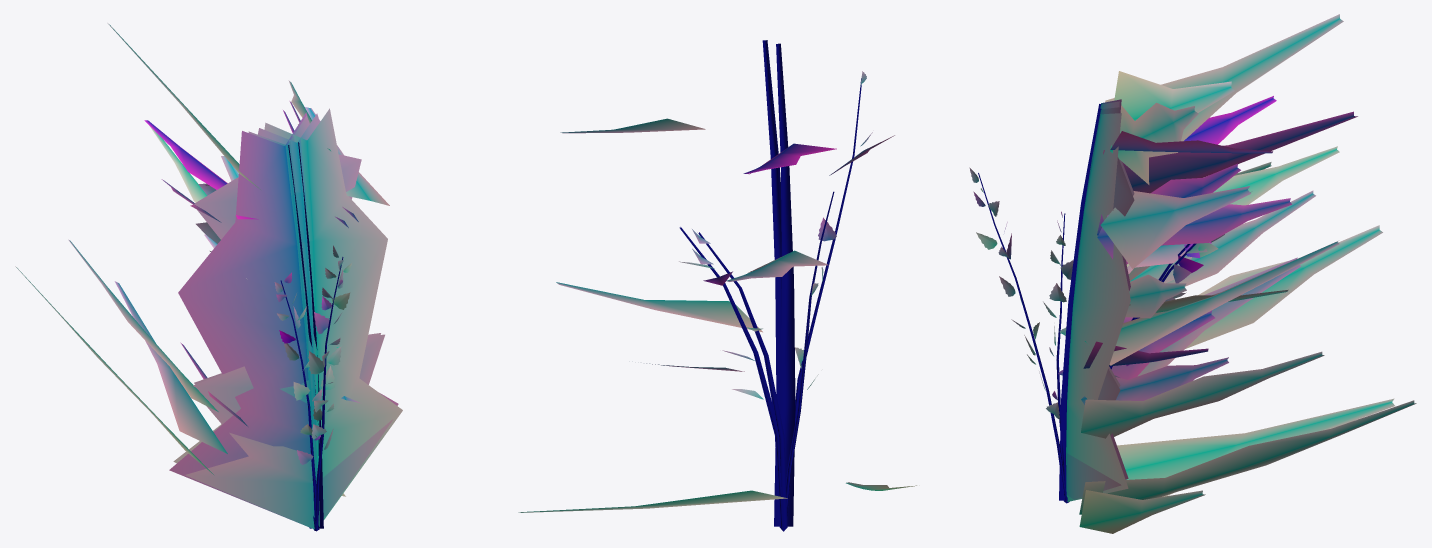
Rendered from spring-foliage.glb.
3 renders of one model, left to right at view 1: azimuth 30°, elevation 25°; view 2: azimuth 150°, elevation 25°; view 3: azimuth 270°, elevation 25°, orthographic. The views are drawn at different scales.
Parts seen in each view (by area): view 1: spruce_frond_0, spruce_frond_1, spruce_bough_1, spruce_bough_0, birch_young_0, birch_young_1; view 2: spruce_bough_1, spruce_frond_0, spruce_bough_0, birch_young_strand_0, birch_young_strand_1, birch_young_0, birch_young_1, spruce_frond_1; view 3: spruce_bough_0, spruce_frond_1, spruce_frond_0, spruce_bough_1, birch_young_0, birch_young_1, birch_young_strand_1.
Boxes of the visible parts, bbox=[...] form: spruce_frond_0: bbox=[107, 23, 398, 525]; spruce_frond_1: bbox=[173, 106, 402, 526]; spruce_bough_1: bbox=[161, 80, 380, 529]; spruce_bough_0: bbox=[15, 101, 392, 528]; birch_young_0: bbox=[308, 245, 351, 529]; birch_young_1: bbox=[274, 272, 322, 527]; spruce_bough_1: bbox=[646, 43, 916, 526]; spruce_frond_0: bbox=[518, 282, 787, 512]; spruce_bough_0: bbox=[743, 40, 836, 526]; birch_young_strand_0: bbox=[679, 229, 787, 531]; birch_young_strand_1: bbox=[679, 227, 784, 531]; birch_young_0: bbox=[787, 71, 872, 515]; birch_young_1: bbox=[786, 191, 834, 515]; spruce_frond_1: bbox=[560, 118, 705, 133]; spruce_bough_0: bbox=[1059, 96, 1416, 514]; spruce_frond_1: bbox=[1066, 71, 1250, 533]; spruce_frond_0: bbox=[1085, 14, 1394, 496]; spruce_bough_1: bbox=[1059, 101, 1240, 500]; birch_young_0: bbox=[969, 167, 1066, 500]; birch_young_1: bbox=[1043, 211, 1073, 499]; birch_young_strand_1: bbox=[1063, 234, 1224, 503].
Bounding box in the file's own units: 0.7465 × 1.15 × 1.04.
